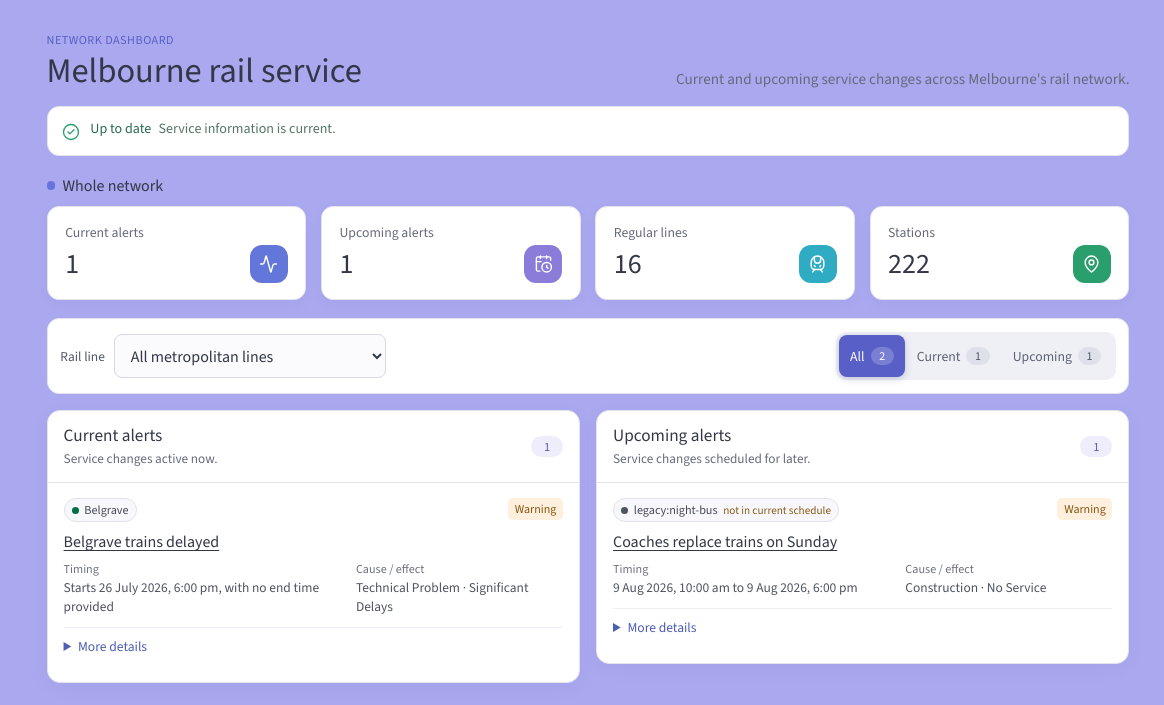
Scenario: Dashboard › updates the URL, requests and selected-line summary without double encoding
Select "Belgrave" in the dropdown labelled "Rail line". click: (250, 356)
box: x1=114 y1=334 x2=386 y2=378
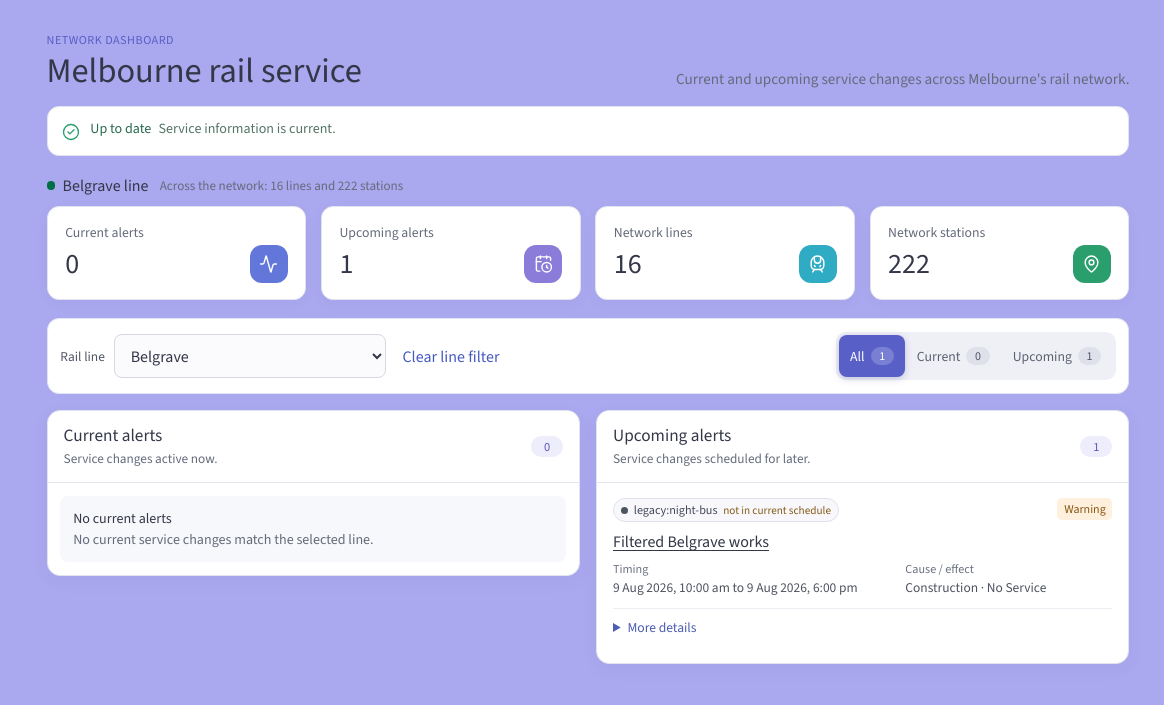
Result: the heading "Belgrave line" is shown at x1=46 y1=175 x2=148 y2=196
Result: the text "Network lines" is shown at x1=614 y1=223 x2=693 y2=241
Result: the text "Network stations" is shown at x1=888 y1=223 x2=985 y2=241
